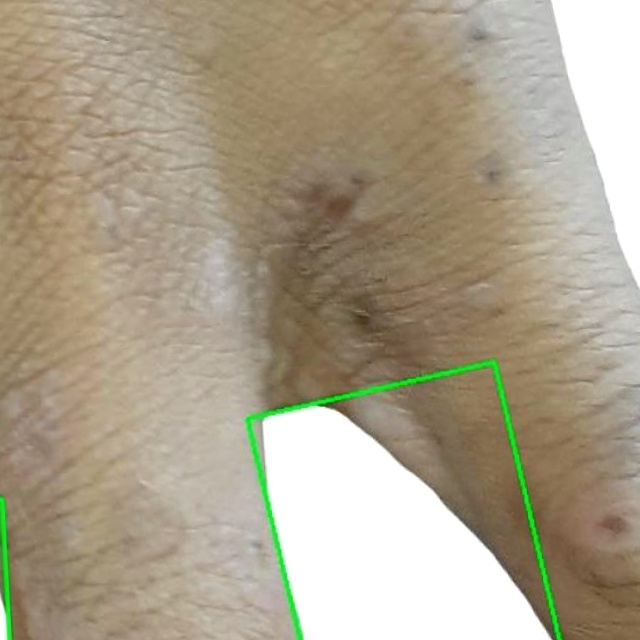Scabies: (248, 362, 559, 639)
